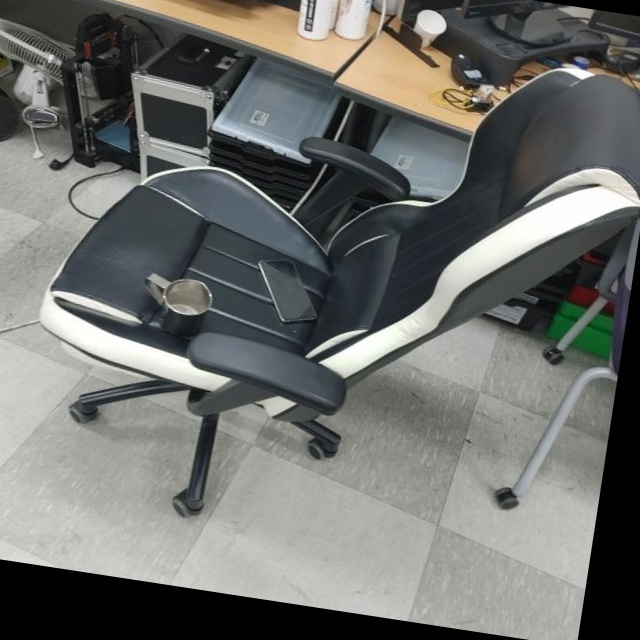cup: (138, 268, 218, 341)
phone: (250, 253, 326, 328)
